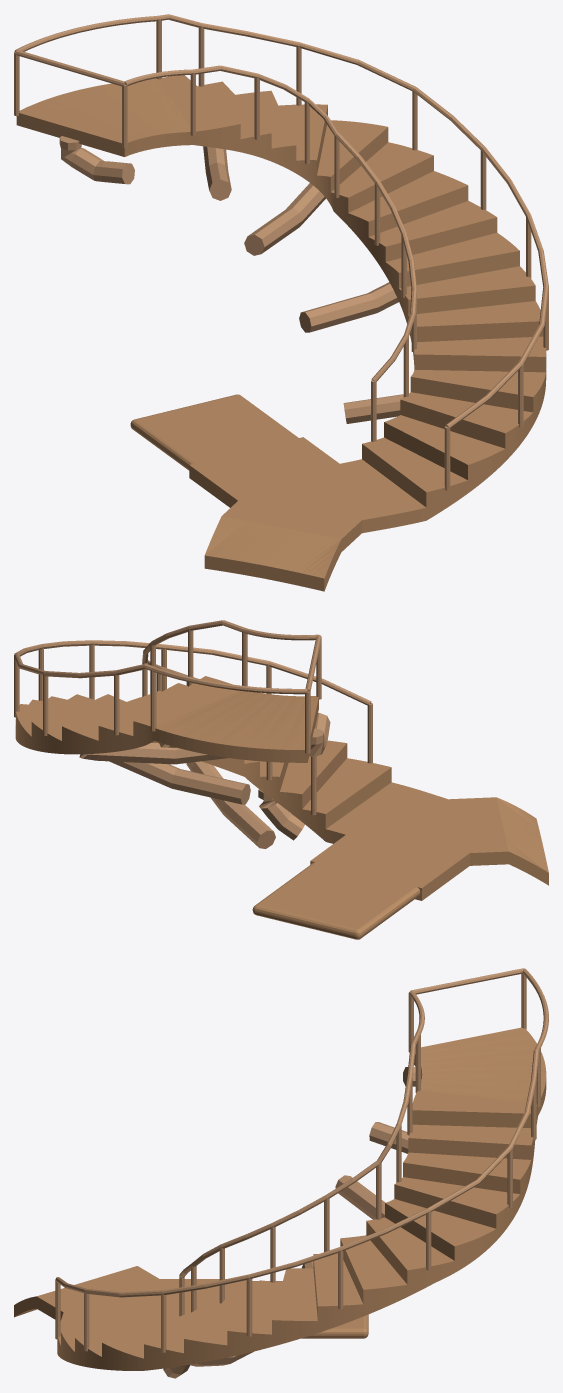
The model's file is owner-use-components.glb.
3 renders of one model, top to bottom at view 1: azimuth 30°, elevation 25°; view 2: azimuth 150°, elevation 25°; view 3: azimuth 270°, elevation 25°, orthographic. The views are drawn at different scales.
Visible parts, largest first — view 1: walk-top/real-sixteen-stairs, solid-body/real-sixteen-stairs, walk-top/native-interior, walk-top/terrain-threshold, solid-rail/stair-edge-1, walk-top/aligned-opening, solid-rail/stair-edge--1, solid-bough/native-contact-2, solid-body/terrain-threshold, solid-bough/native-contact-3, solid-bough/native-contact-5, walk-top/front-junction (+3 smaller); view 2: walk-top/real-sixteen-stairs, walk-top/native-interior, solid-body/real-sixteen-stairs, walk-top/aligned-opening, solid-rail/stair-edge-1, walk-top/terrain-threshold, solid-bough/native-contact-2, solid-bough/native-contact-1, solid-bough/native-contact-3, walk-top/front-junction, solid-rail/stair-edge--1, solid-body/terrain-threshold (+5 smaller); view 3: walk-top/real-sixteen-stairs, solid-body/real-sixteen-stairs, solid-rail/stair-edge-1, solid-rail/stair-edge--1, walk-top/aligned-opening, walk-top/native-interior, walk-top/front-junction, solid-bough/native-contact-3, walk-top/terrain-threshold, solid-bough/native-contact-4, solid-rail/visible-terminal-guard, solid-body/terrain-threshold.
Part boxes in pixels (x1,y1,x2,y2): walk-top/real-sixteen-stairs: (19, 75, 546, 523); solid-body/real-sixteen-stairs: (16, 106, 546, 533); walk-top/native-interior: (130, 394, 327, 485); walk-top/terrain-threshold: (204, 501, 361, 578); solid-rail/stair-edge-1: (14, 14, 548, 428); walk-top/aligned-opening: (190, 437, 368, 512); solid-rail/stair-edge--1: (124, 65, 417, 381); solid-bough/native-contact-2: (299, 282, 398, 332); solid-body/terrain-threshold: (204, 520, 361, 591); solid-bough/native-contact-3: (244, 183, 325, 255); solid-bough/native-contact-5: (59, 136, 134, 184); walk-top/front-junction: (255, 499, 341, 526); walk-top/real-sixteen-stairs: (15, 676, 464, 834); walk-top/native-interior: (253, 840, 445, 935); solid-body/real-sixteen-stairs: (15, 698, 391, 843); walk-top/aligned-opening: (310, 814, 485, 887); solid-rail/stair-edge-1: (14, 640, 371, 705); walk-top/terrain-threshold: (449, 797, 548, 872); solid-bough/native-contact-2: (109, 761, 250, 804); solid-bough/native-contact-1: (186, 761, 275, 848); solid-bough/native-contact-3: (79, 742, 227, 764); walk-top/front-junction: (431, 804, 494, 840); solid-rail/stair-edge--1: (142, 620, 318, 678); solid-body/terrain-threshold: (470, 851, 548, 885); walk-top/real-sixteen-stairs: (58, 1027, 546, 1358); solid-body/real-sixteen-stairs: (57, 1054, 546, 1370); solid-rail/stair-edge-1: (55, 968, 548, 1297); solid-rail/stair-edge--1: (179, 990, 424, 1278); walk-top/aligned-opening: (127, 1279, 246, 1326); walk-top/native-interior: (196, 1281, 368, 1334); walk-top/front-junction: (66, 1279, 127, 1304); solid-bough/native-contact-3: (335, 1175, 385, 1219); walk-top/terrain-threshold: (37, 1266, 158, 1311); solid-bough/native-contact-4: (369, 1122, 408, 1153); solid-rail/visible-terminal-guard: (410, 968, 523, 994); solid-body/terrain-threshold: (14, 1296, 63, 1320).
Size of the model in its own units: 2.26 by 1.89 by 2.76.
